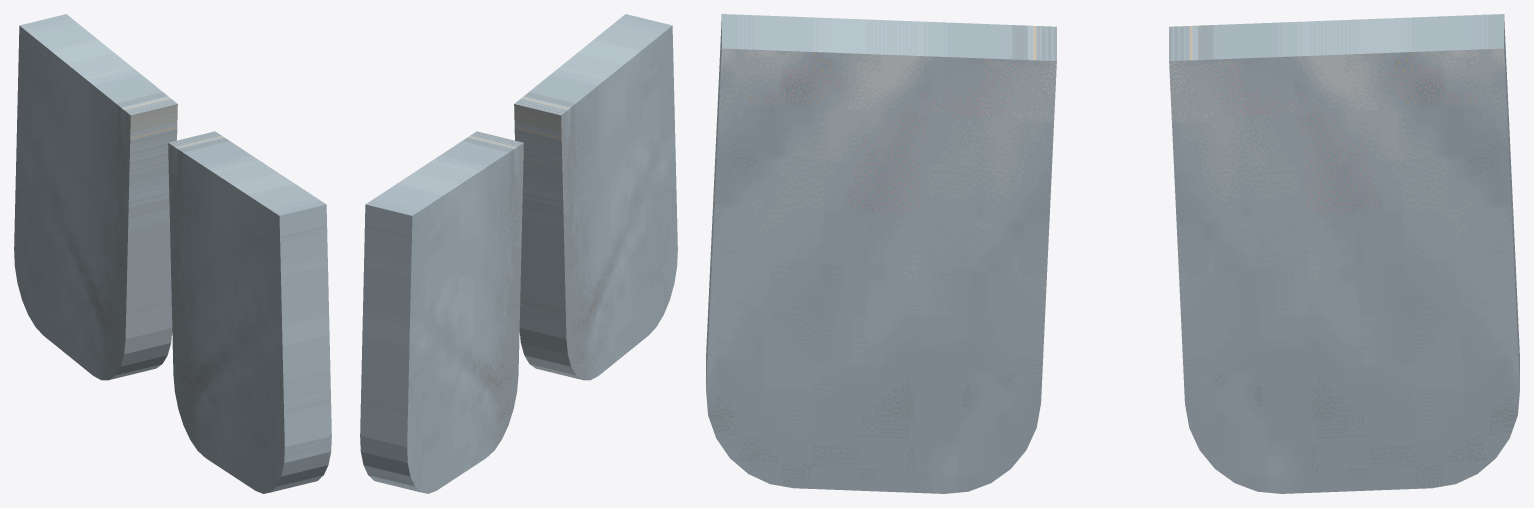
The model's file is Buck_Teeth.glb.
The picture shows the model from 3 angles, left to right: view 1: azimuth 30°, elevation 25°; view 2: azimuth 150°, elevation 25°; view 3: azimuth 270°, elevation 25°; orthographic projection. The views are drawn at different scales.
Parts seen in each view (by area): view 1: Buck Teeth; view 2: Buck Teeth; view 3: Buck Teeth.
Boxes of the visible parts, <box> form: Buck Teeth: <box>14,14,331,493</box>; Buck Teeth: <box>360,14,677,493</box>; Buck Teeth: <box>706,14,1519,493</box>.
Bounding box in the file's own units: 0.0267 × 0.1609 × 0.2665.
1 material, 1 textured.
